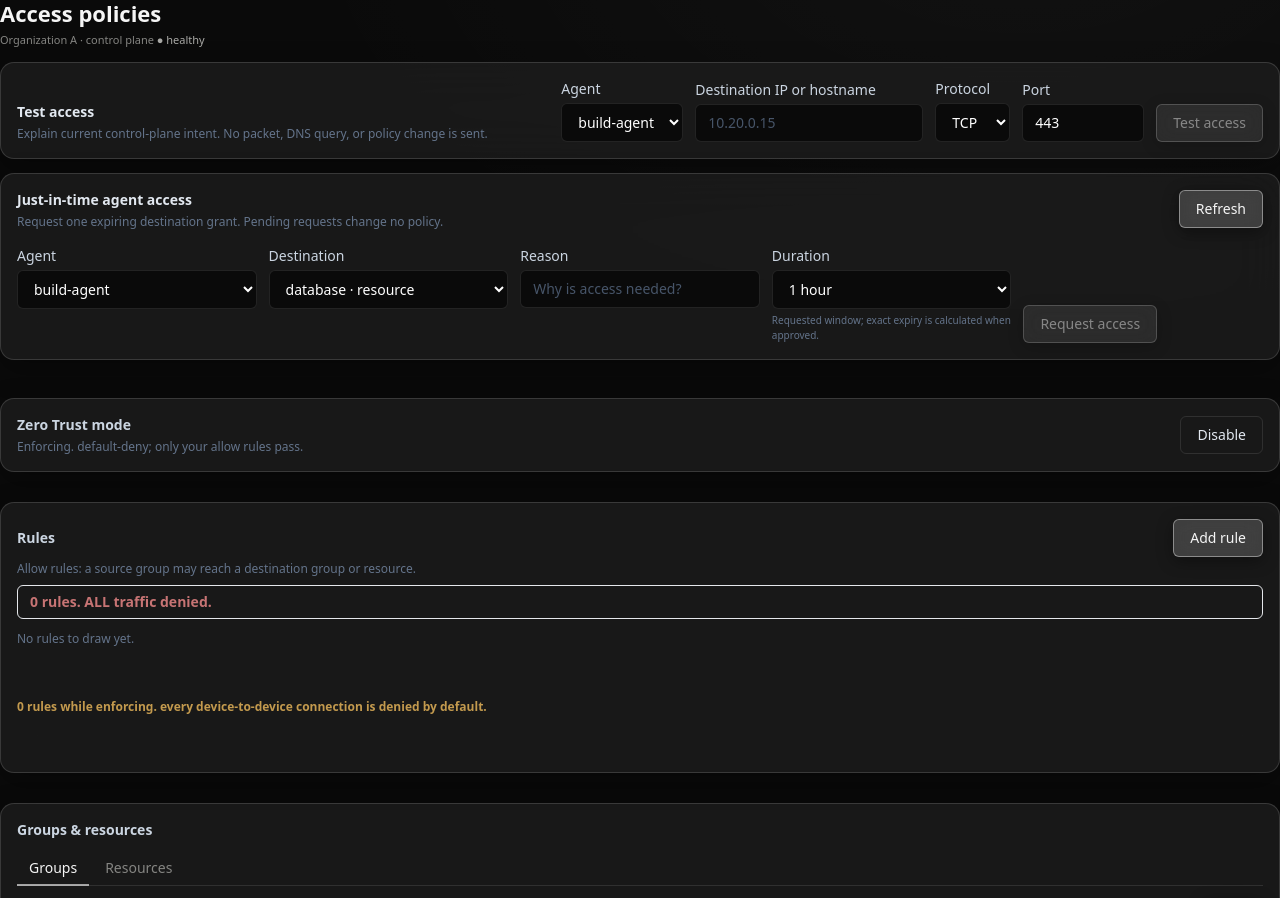
Scenario: released F10 JIT agent access workflow › creates, approves, shows history, revokes, and refetches server state
expect the heading "Just-in-time agent access" is shown: met, box [17,190,192,209]
In the field with placeholder "Why is access needed?": (640, 289) [520,270,760,308], type "ship release"
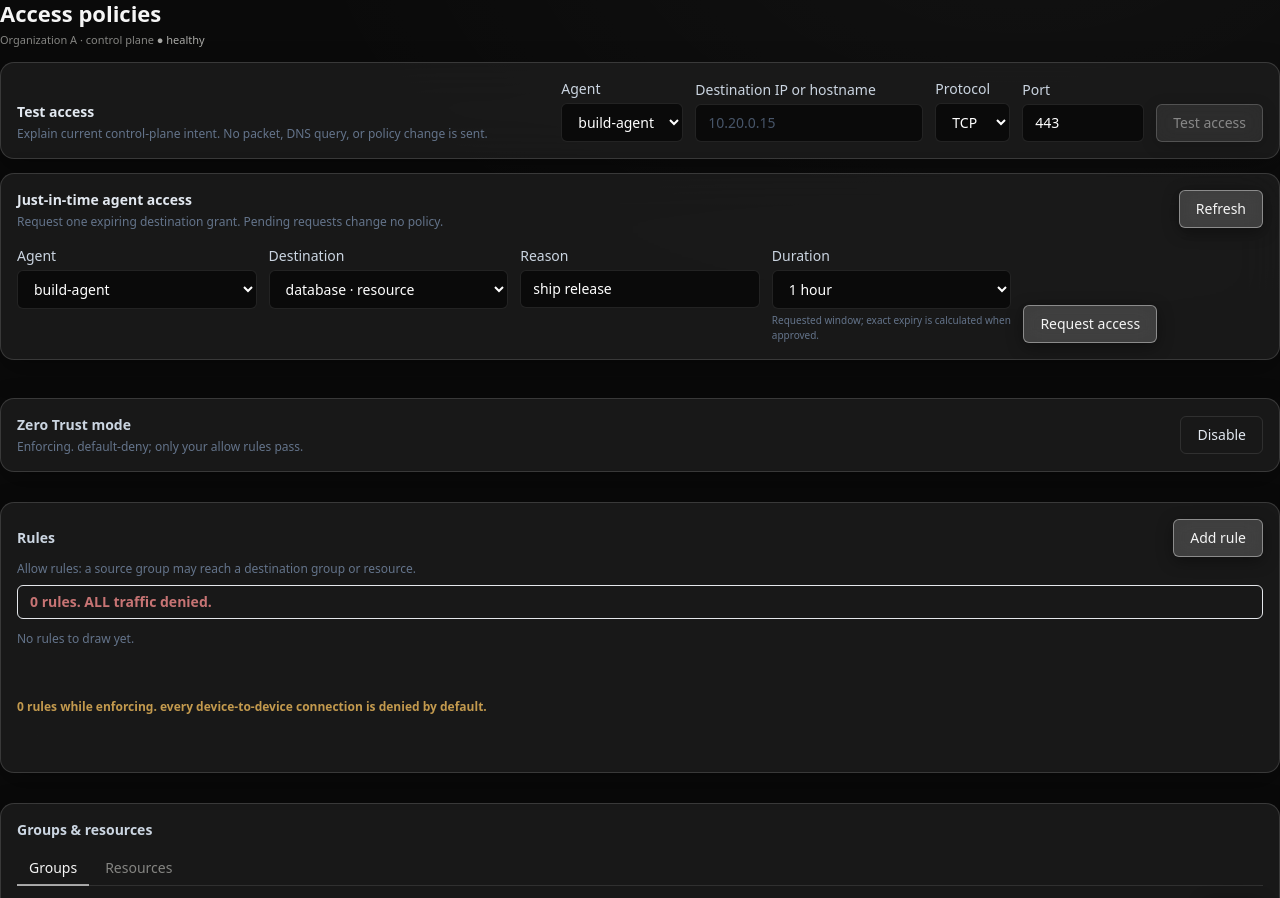
Click the button "Request access": (1090, 324) [1023,305,1157,343]
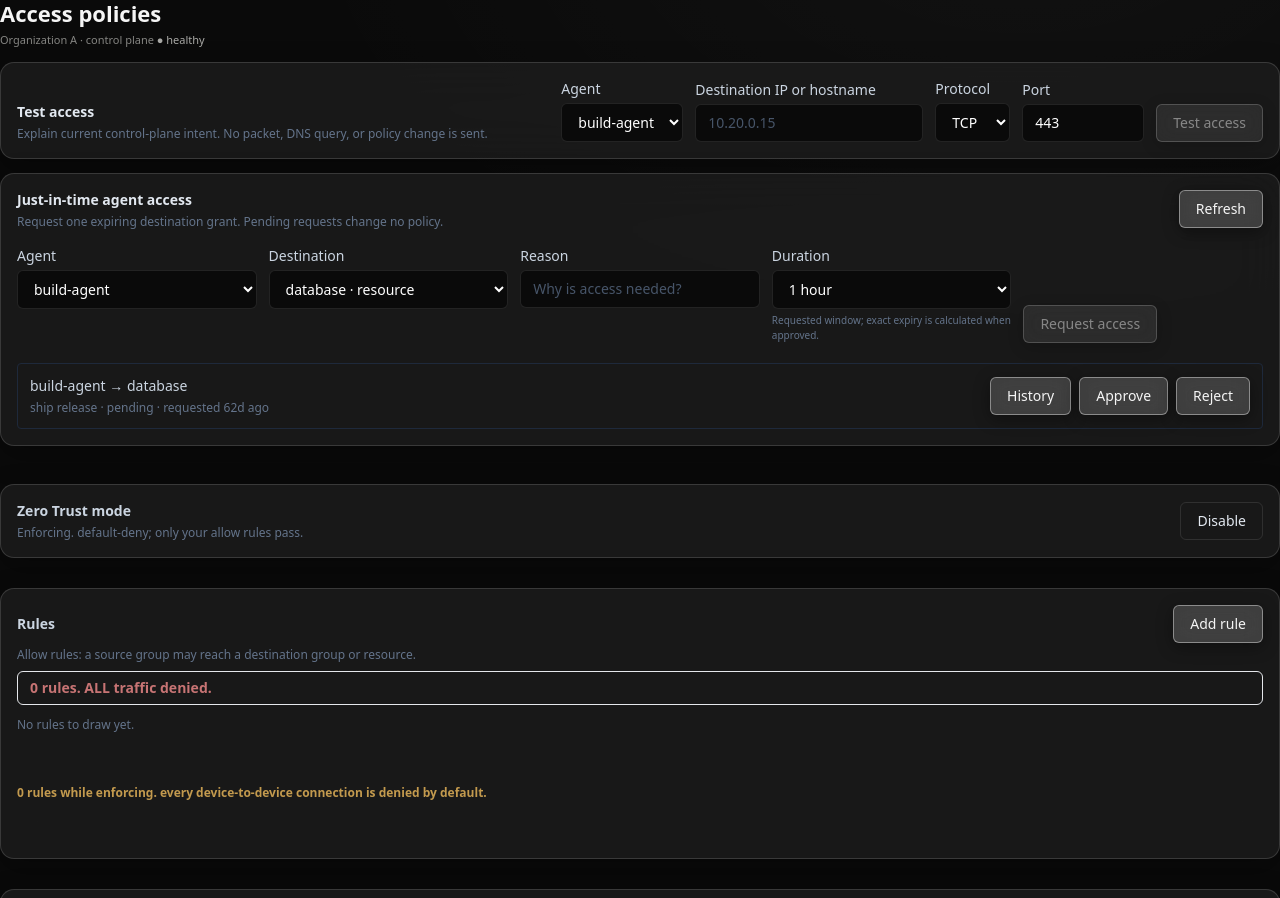
expect the text "ship release · pending · requested 62d ago" is shown: met, box [30,400,269,416]
Click the button "History": (1031, 396) [990,377,1071,415]
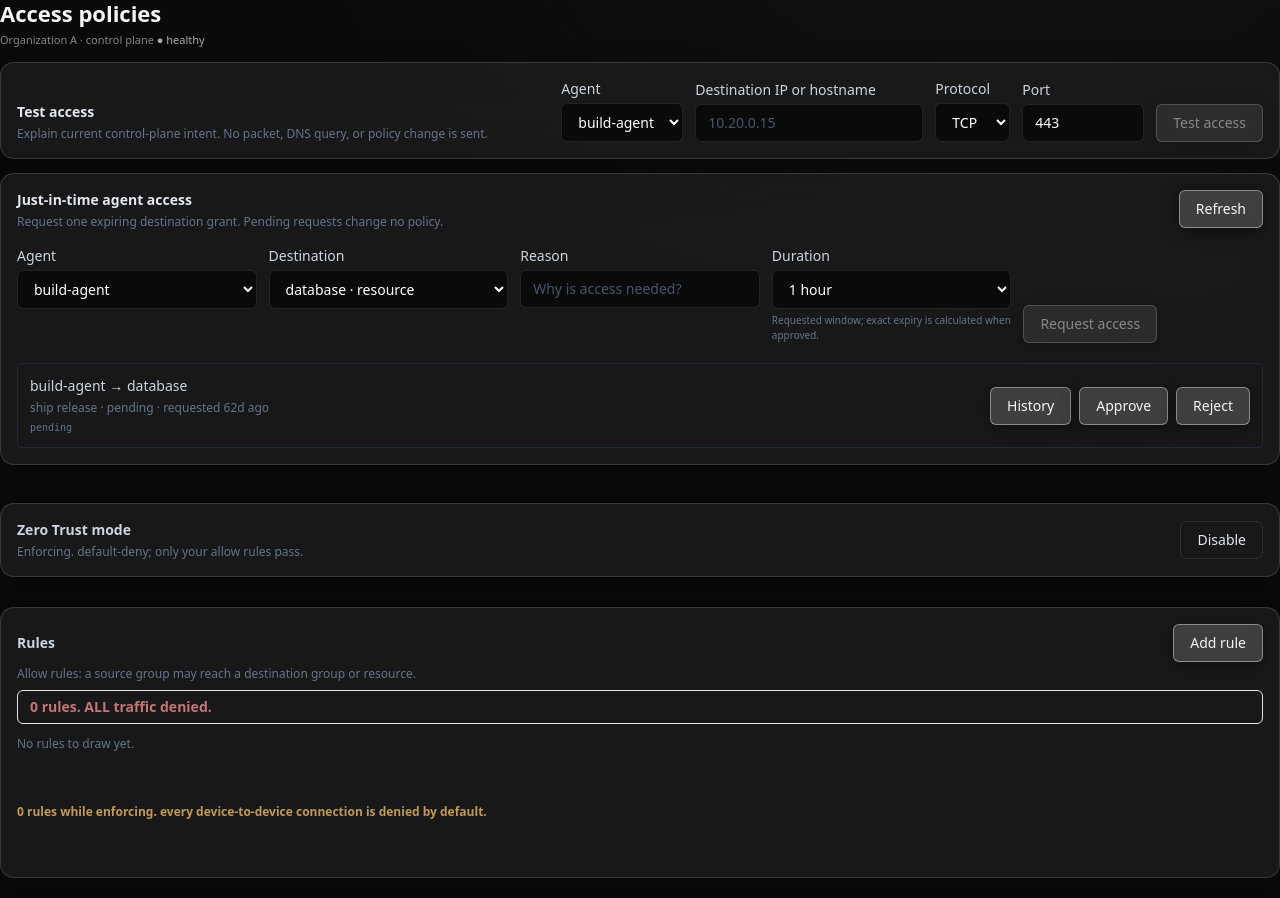
expect the text "pending" is shown: met, box [30,422,72,433]
Click the button "Approve": (1124, 406) [1079,386,1168,424]
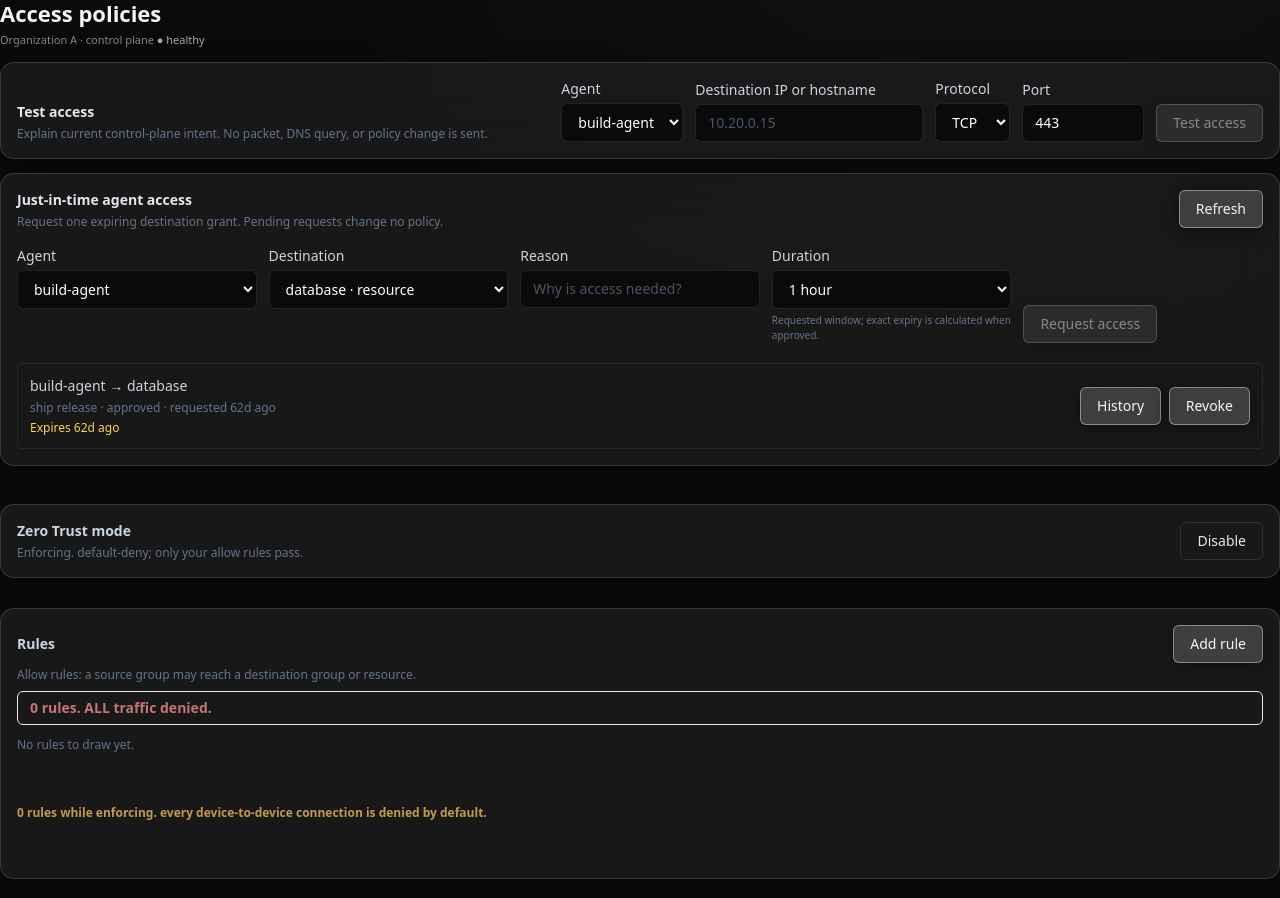
expect the text "ship release · approved · requested 62d ago" is shown: met, box [30,400,276,416]
Click the button "Revoke": (1209, 406) [1169,387,1250,425]
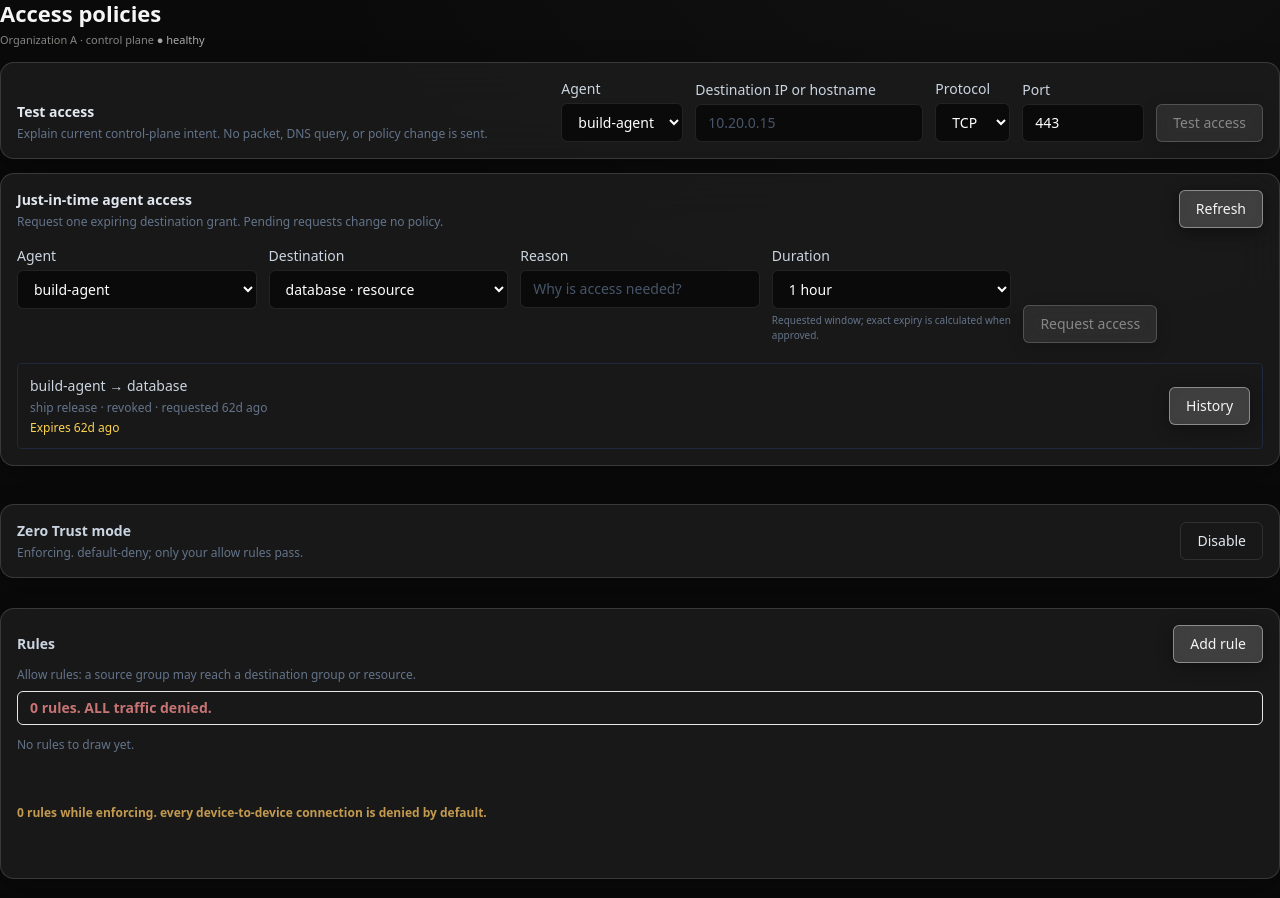
expect the text "ship release · revoked · requested 62d ago" is shown: met, box [30,400,268,416]
